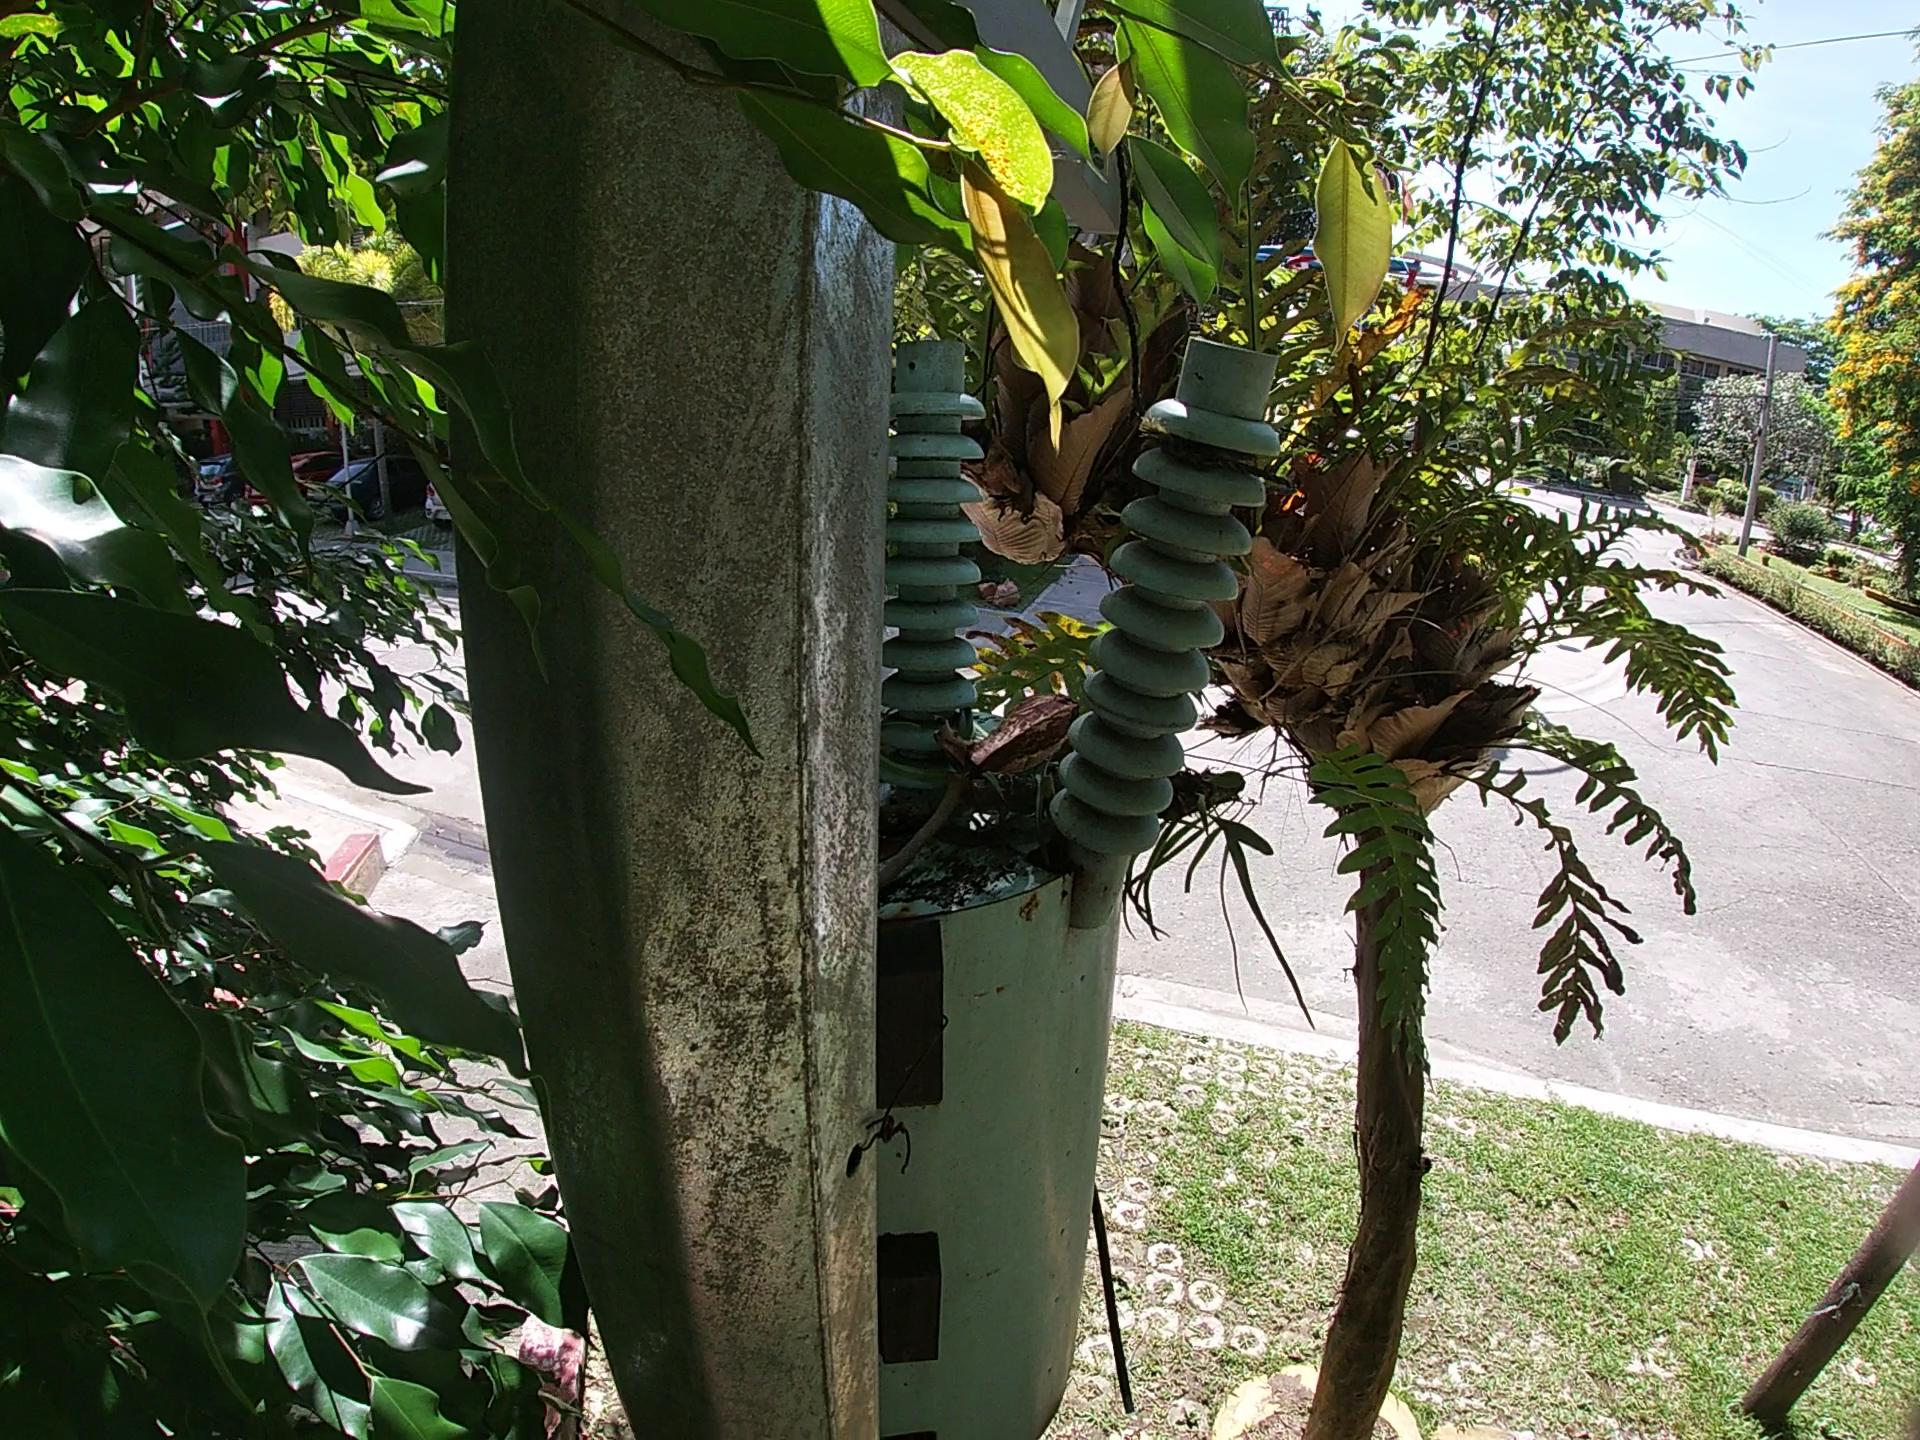branch with leaves: (853, 743, 1019, 929), (1008, 744, 1281, 843)
mahogany fruit: (862, 755, 1020, 846)
